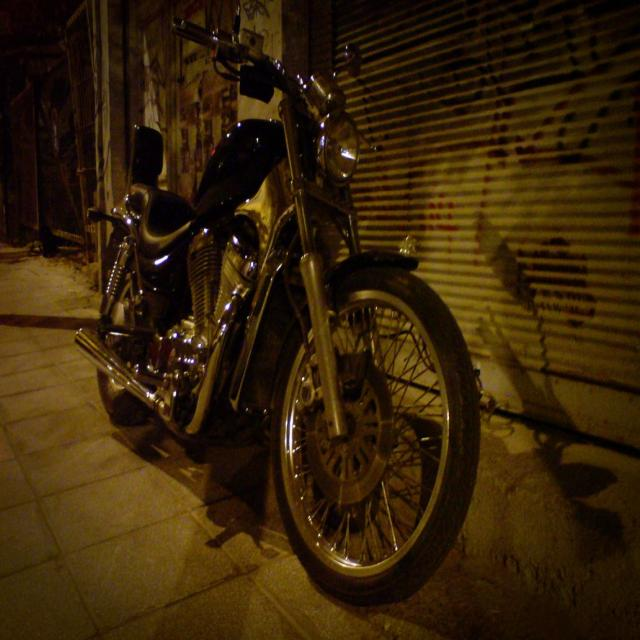Motorbike: (91, 17, 489, 612)
